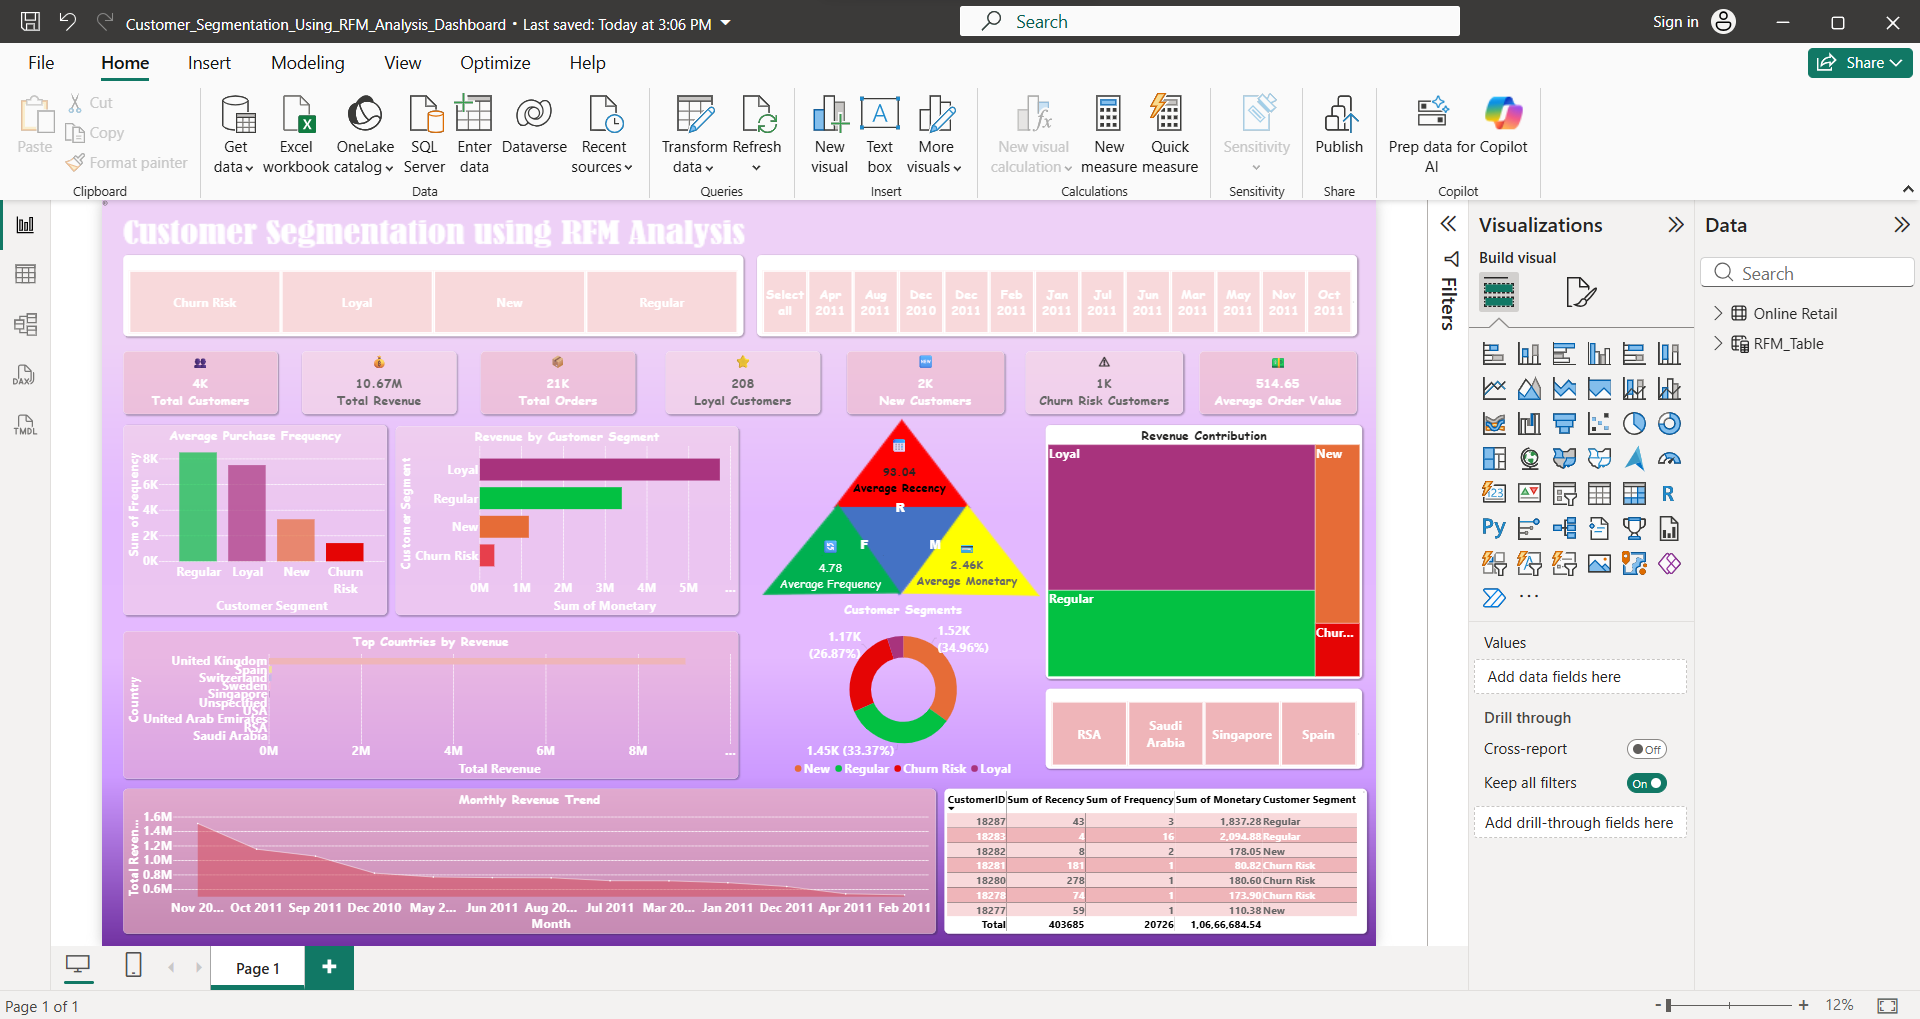

This screenshot's page, from the dashboard's own definition file:
{"tool":"powerbi","page":{"name":"Page 1","canvas":[8200,4800],"ordinal":0},"visuals":[{"type":"cardVisual","title":"👥 ","fields":{"Data":["Online Retail.Total Customers"]},"box":[140.7,975.8,993.4,404.4],"z":0},{"type":"donutChart","title":"Customer Segments","fields":{"Category":["RFM_Table.Customer Segment"],"Y":["CountNonNull(RFM_Table.CustomerID)"]},"box":[4367.3,2557.7,1576.4,1166.2],"z":1000},{"type":"clusteredBarChart","title":"Revenue by Customer Segment","fields":{"Category":["RFM_Table.Customer Segment"],"Y":["Sum(RFM_Table.Monetary)"]},"box":[1890.1,1455.8,2203.8,1214.5],"z":2000},{"type":"clusteredColumnChart","title":"Average Purchase Frequency","fields":{"Category":["RFM_Table.Customer Segment"],"Y":["Sum(RFM_Table.Frequency)"]},"box":[136.7,1447.7,1697.1,1222.5],"z":3000},{"type":"clusteredBarChart","title":"Top Countries by Revenue","fields":{"Category":["Online Retail.Country"],"Y":["Online Retail.Total Revenue"]},"box":[136.7,2774.8,3957.1,949.1],"z":4000},{"type":"treemap","title":"Revenue Contribution","fields":{"Group":["RFM_Table.Customer Segment"],"Values":["Sum(RFM_Table.Monetary)"]},"box":[6072.4,1447.7,2034.9,1632.7],"z":5000},{"type":"tableEx","fields":{"Values":["RFM_Table.CustomerID","Sum(RFM_Table.Recency)","Sum(RFM_Table.Frequency)","Sum(RFM_Table.Monetary)","RFM_Table.Customer Segment"]},"box":[5420.9,3788.2,2718.5,933],"z":6000},{"type":"slicer","title":"Country","fields":{"Values":["Online Retail.Country"]},"box":[6072.4,3144.8,2034.9,514.7],"z":7000},{"type":"lineChart","title":"Monthly Revenue Trend","fields":{"Category":["Online Retail.Month"],"Y":["Online Retail.Total Revenue"]},"box":[136.7,3788.2,5227.9,933],"z":8000},{"type":"slicer","title":"Customer Segement","fields":{"Values":["RFM_Table.Customer Segment"]},"box":[136.7,353.9,3989.3,522.8],"z":9000},{"type":"slicer","title":"Month","fields":{"Values":["Online Retail.Month"]},"box":[4214.5,353.9,3860.6,522.8],"z":10000},{"type":"actionButton","box":[0,0,100,40],"z":11000},{"type":"cardVisual","title":"📅 ","fields":{"Data":["RFM_Table.Average Recency"]},"box":[4764.6,1520.8,738.4,448.3],"z":12000},{"type":"cardVisual","title":"💰 ","fields":{"Data":["Online Retail.Total Revenue"]},"box":[1283.5,975.8,993.4,404.4],"z":13000},{"type":"cardVisual","title":"💳","fields":{"Data":["RFM_Table.Average Monetary"]},"box":[5186.6,2171.3,756,342.8],"z":14000},{"type":"cardVisual","title":"📦 ","fields":{"Data":["Online Retail.Total Orders"]},"box":[2435,975.8,993.4,404.4],"z":15000},{"type":"cardVisual","title":"🔄 ","fields":{"Data":["RFM_Table.Average Frequency"]},"box":[4316.3,2171.3,738.4,378],"z":16000},{"type":"cardVisual","title":"🆕 ","fields":{"Data":["RFM_Table.New Customers"]},"box":[4791,975.8,1010.9,404.4],"z":17000},{"type":"cardVisual","title":"⚠ ","fields":{"Data":["RFM_Table.Churn Risk Customers"]},"box":[5942.6,975.8,1010.9,404.4],"z":18000},{"type":"cardVisual","title":"⭐ ","fields":{"Data":["RFM_Table.Loyal Customers"]},"box":[3630.6,975.8,993.4,404.4],"z":19000},{"type":"cardVisual","title":"💵 ","fields":{"Data":["Online Retail.Average Order Value"]},"box":[7059,975.8,1010.9,404.4],"z":20000},{"type":"textbox","title":"R","box":[4791,1925.2,685.7,228.6],"z":21000},{"type":"textbox","title":"F","box":[4623.9,2153.7,562.6,263.7],"z":22000},{"type":"textbox","title":"M","box":[5019.5,2153.7,685.7,228.6],"z":23000}]}

Visuals, with their boxes on the page's 8200x4800 design canvas (x1, y1, x2, y2). These are canvas units, not pixel positions in the 1920x1019 screenshot, which may show the page scaled, cropped or inside an application window:
"👥 " cardVisual: [left=141, top=976, right=1134, bottom=1380]
"Customer Segments" donutChart: [left=4367, top=2558, right=5944, bottom=3724]
"Revenue by Customer Segment" clusteredBarChart: [left=1890, top=1456, right=4094, bottom=2670]
"Average Purchase Frequency" clusteredColumnChart: [left=137, top=1448, right=1834, bottom=2670]
"Top Countries by Revenue" clusteredBarChart: [left=137, top=2775, right=4094, bottom=3724]
"Revenue Contribution" treemap: [left=6072, top=1448, right=8107, bottom=3080]
tableEx - RFM_Table.CustomerID x Sum(RFM_Table.Recency): [left=5421, top=3788, right=8139, bottom=4721]
"Country" slicer: [left=6072, top=3145, right=8107, bottom=3660]
"Monthly Revenue Trend" lineChart: [left=137, top=3788, right=5365, bottom=4721]
"Customer Segement" slicer: [left=137, top=354, right=4126, bottom=877]
"Month" slicer: [left=4214, top=354, right=8075, bottom=877]
actionButton: [left=0, top=0, right=100, bottom=40]
"📅 " cardVisual: [left=4765, top=1521, right=5503, bottom=1969]
"💰 " cardVisual: [left=1284, top=976, right=2277, bottom=1380]
"💳" cardVisual: [left=5187, top=2171, right=5943, bottom=2514]
"📦 " cardVisual: [left=2435, top=976, right=3428, bottom=1380]
"🔄 " cardVisual: [left=4316, top=2171, right=5055, bottom=2549]
"🆕 " cardVisual: [left=4791, top=976, right=5802, bottom=1380]
"⚠ " cardVisual: [left=5943, top=976, right=6954, bottom=1380]
"⭐ " cardVisual: [left=3631, top=976, right=4624, bottom=1380]
"💵 " cardVisual: [left=7059, top=976, right=8070, bottom=1380]
"R" textbox: [left=4791, top=1925, right=5477, bottom=2154]
"F" textbox: [left=4624, top=2154, right=5186, bottom=2417]
"M" textbox: [left=5020, top=2154, right=5705, bottom=2382]
